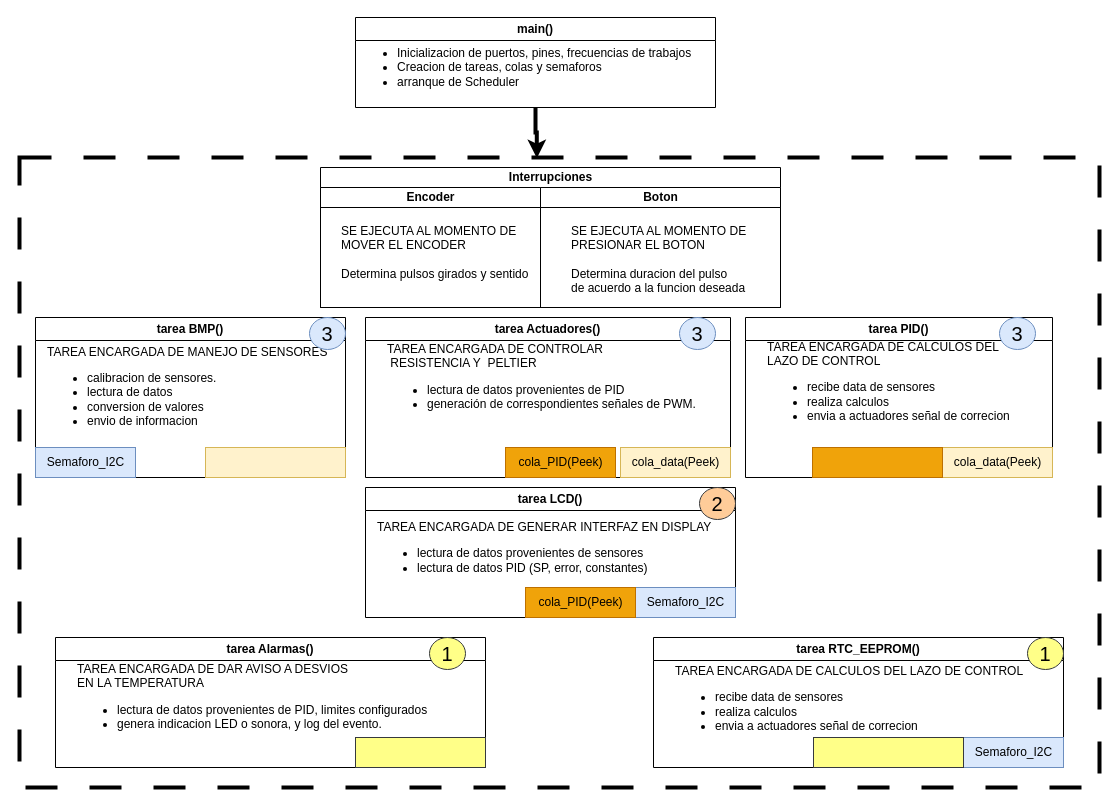
This 1118x807 diagram has some shape labels left out. The shapes that lost their labels are listed below. From the top down, each one's centre as x and y in pixels, then its label:
At pixel 275 462: "cola_data(OverWrite )".
At pixel 877 462: "cola_PID(OverWrite)".
At pixel 420 752: "cola_alarmas(Send)".
At pixel 888 752: "cola_alarmas(Receive)".
